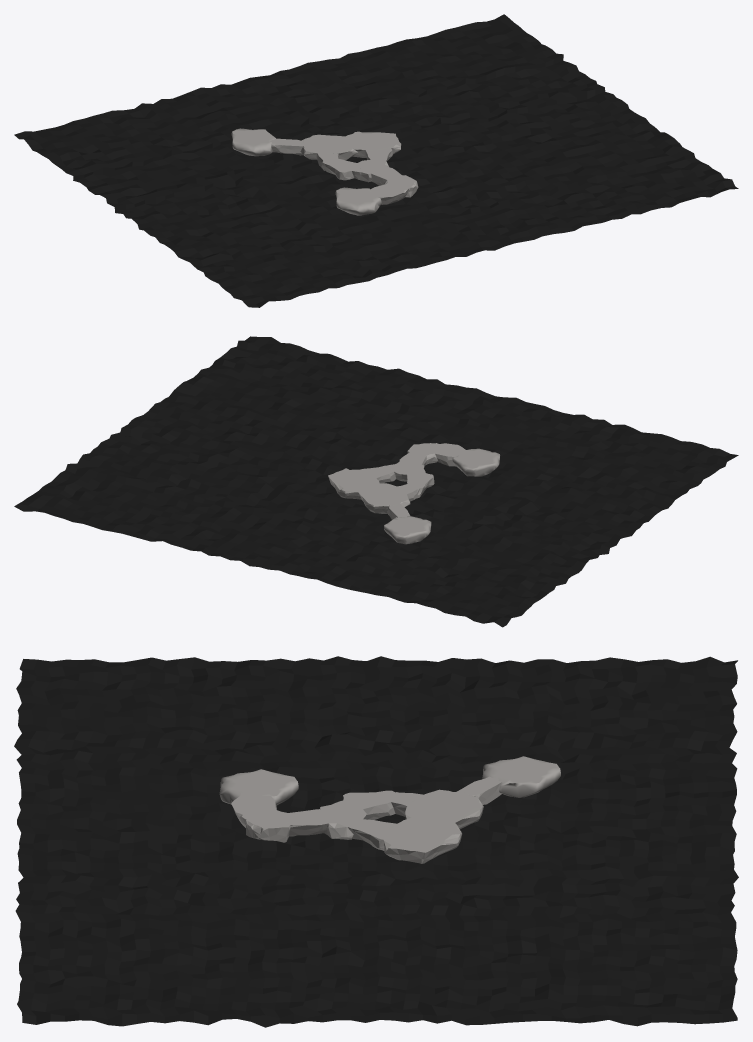
Rendered from Stage3.fbx.
3 renders of one model, top to bottom at view 1: azimuth 30°, elevation 25°; view 2: azimuth 150°, elevation 25°; view 3: azimuth 270°, elevation 25°, orthographic. The views are drawn at different scales.
Parts seen in each view (by area): view 1: GeoSphere034; view 2: GeoSphere034; view 3: GeoSphere034.
Boxes of the visible parts, left/top/right/bottom form: GeoSphere034: left=14, top=14, right=738, bottom=307; GeoSphere034: left=14, top=336, right=738, bottom=627; GeoSphere034: left=14, top=656, right=738, bottom=1027.
Bounding box in the file's own units: 15852 × 578 × 13237.
